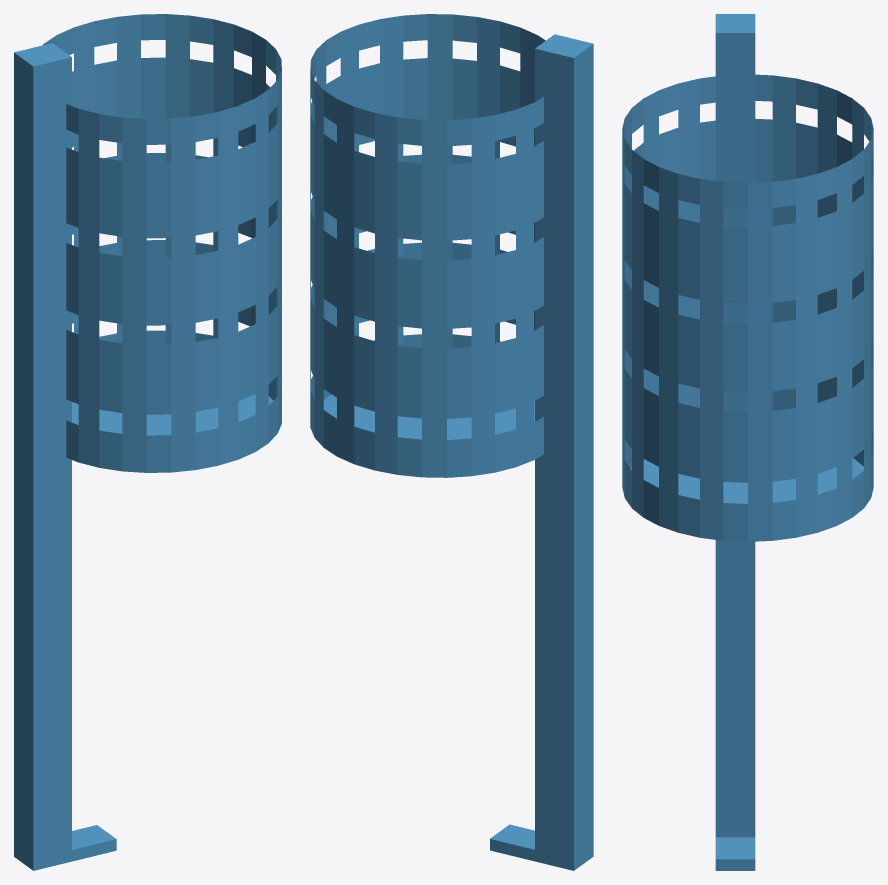
Rendered from trash.fbx.
3 renders of one model, left to right at view 1: azimuth 30°, elevation 25°; view 2: azimuth 150°, elevation 25°; view 3: azimuth 270°, elevation 25°, orthographic.
Visible parts, largest first — view 1: Cube; view 2: Cube; view 3: Cube.
Boxes of the visible parts, <box> form: Cube: <box>14,14,281,870</box>; Cube: <box>310,14,593,870</box>; Cube: <box>622,14,873,870</box>.
Size of the model in its own units: 107 by 332 by 92.6.
